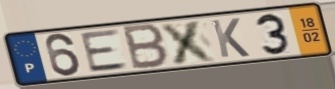3: (254, 11, 290, 57)
6: (44, 32, 82, 78)
B: (121, 22, 171, 72)
E: (78, 27, 131, 75)
K: (209, 17, 252, 59)
X: (158, 18, 220, 66)
